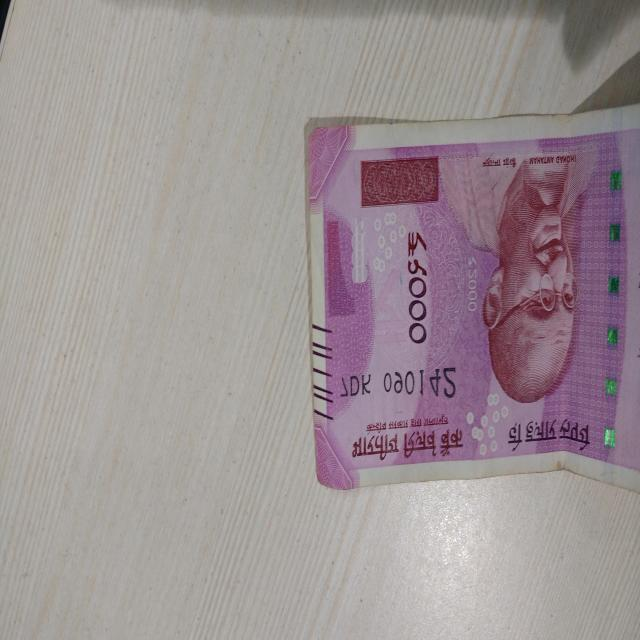Currency: (290, 126, 640, 487)
